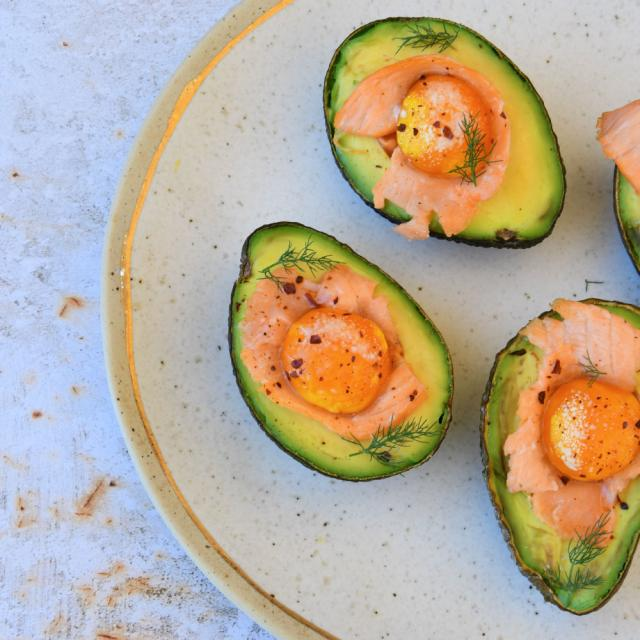aguacate: (198, 224, 472, 487)
